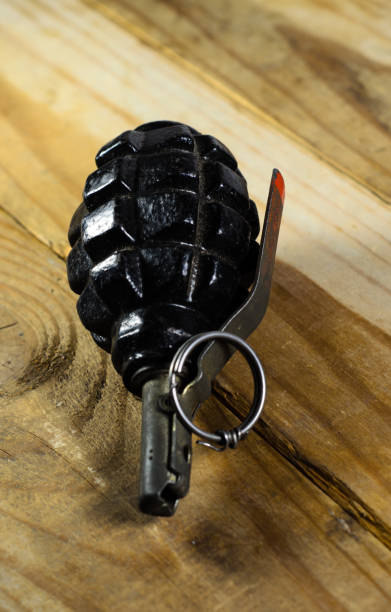e1: (67, 118, 287, 515)
